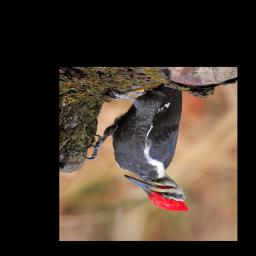Woodpecker: (82, 84, 189, 212)
